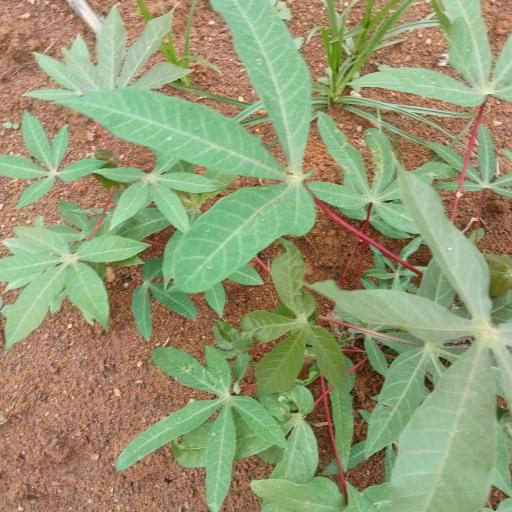Cassava_Mosaic: (88, 5, 312, 293), (322, 177, 512, 512)
